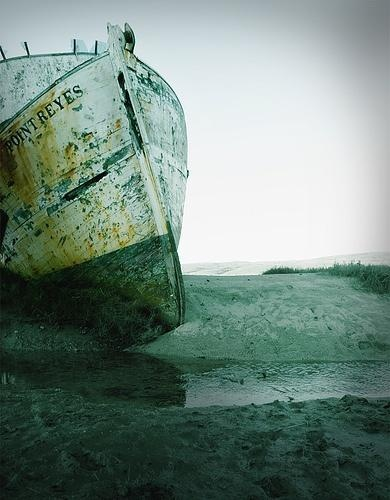boat: (1, 22, 189, 346)
